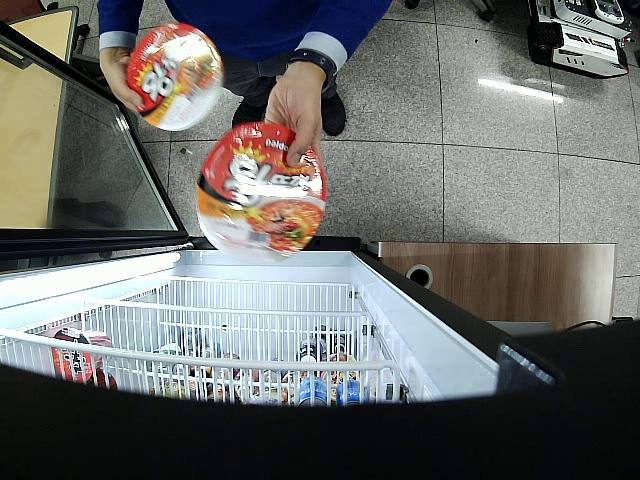00_hand: (266, 73, 325, 168), (100, 48, 145, 113)
10_wangTtukkeong: (197, 123, 327, 262), (127, 23, 224, 131)
